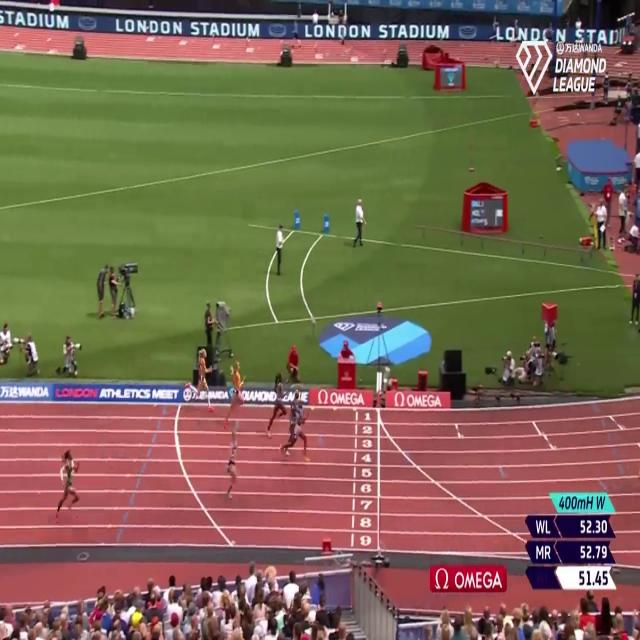athlete: (182, 344, 217, 420), (56, 444, 84, 524), (286, 391, 313, 473), (224, 358, 250, 438), (224, 420, 243, 504), (267, 366, 287, 436)
